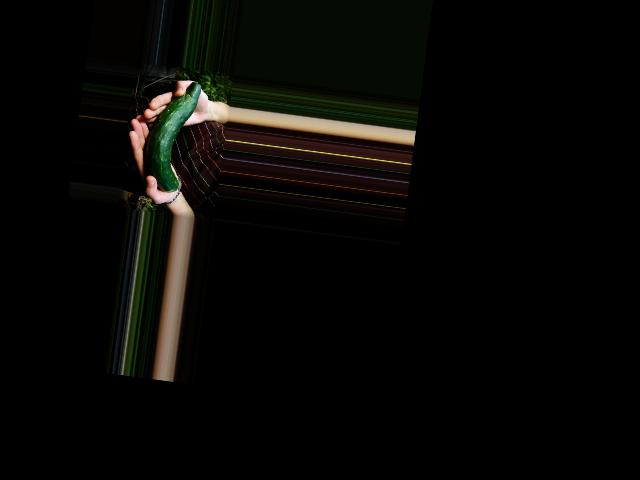cucumber: (140, 77, 201, 195)
